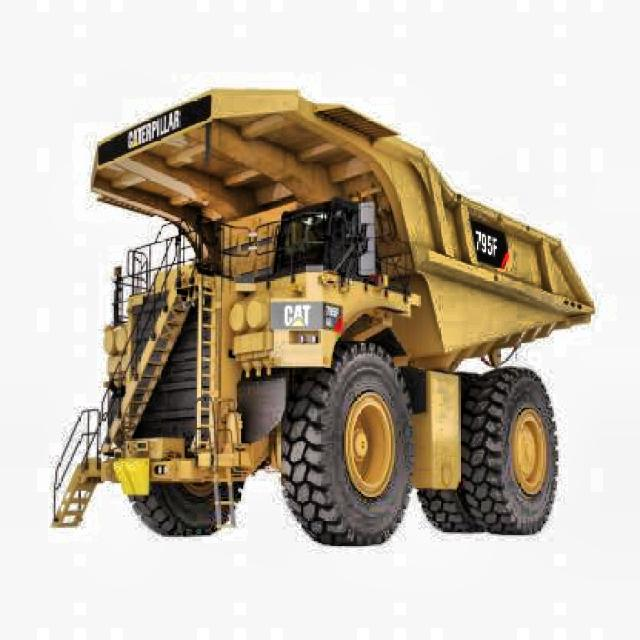dump_truck: (46, 84, 599, 554)
